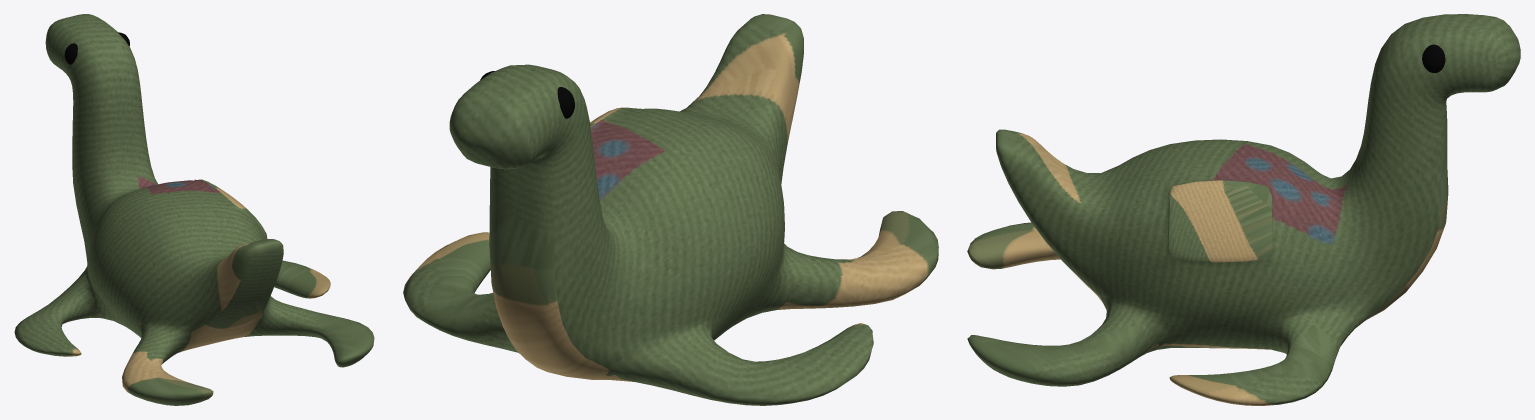
The model's file is Asset_nessie.fbx.
3 views of the same model, side by side, from view 1: azimuth 30°, elevation 25°; view 2: azimuth 150°, elevation 25°; view 3: azimuth 270°, elevation 25° (orthographic). The views are drawn at different scales.
Parts seen in each view (by area): view 1: nessie; view 2: nessie; view 3: nessie.
Boxes of the visible parts, <box> form: nessie: <box>14,14,374,405</box>; nessie: <box>403,14,938,405</box>; nessie: <box>967,14,1520,405</box>.
Size of the model in its own units: 1311 by 1028 by 1656.
1 material, 1 textured.
